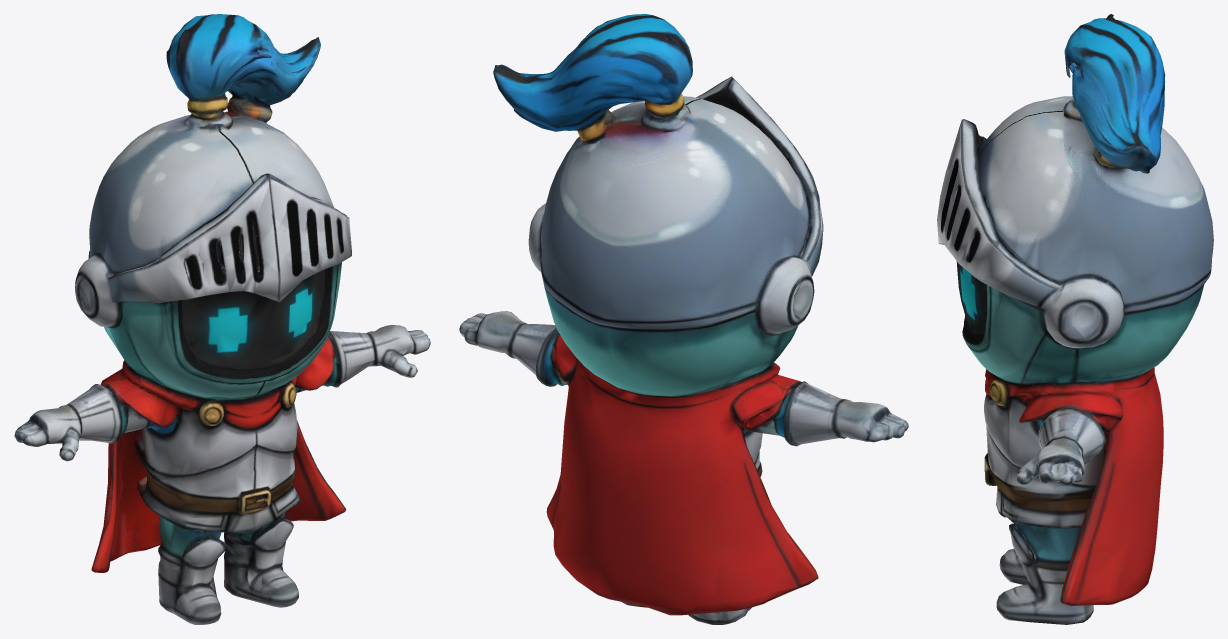
Rendered from hero3d-robot2-anim.glb.
The picture shows the model from 3 angles, left to right: view 1: azimuth 30°, elevation 25°; view 2: azimuth 150°, elevation 25°; view 3: azimuth 270°, elevation 25°; orthographic projection. The views are drawn at different scales.
Size of the model in its own units: 1.55 by 2 by 0.8653.
Materials: 1 (1 with a texture image).
